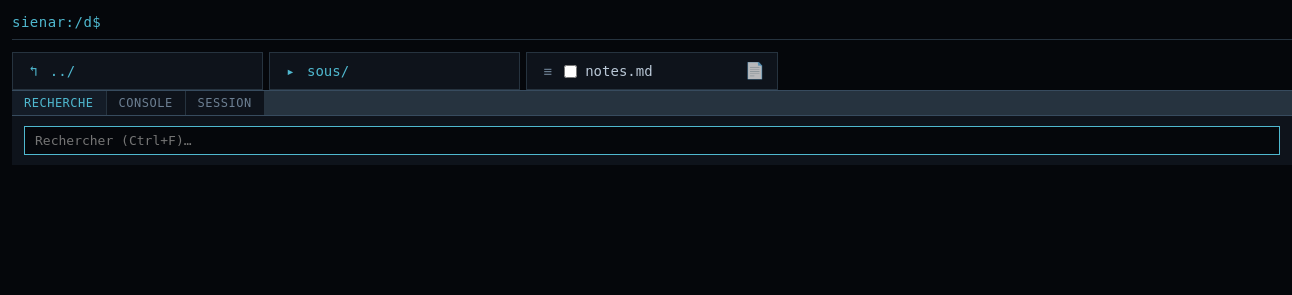
Test: FileExplorer.vue - Point 7: Recherche (dock) › affiche les résultats récursifs (avec chemin) et le compteur dans le dock
Type "rapport" into the field with class "search-input" at (652, 140), box [24,126,1280,155]
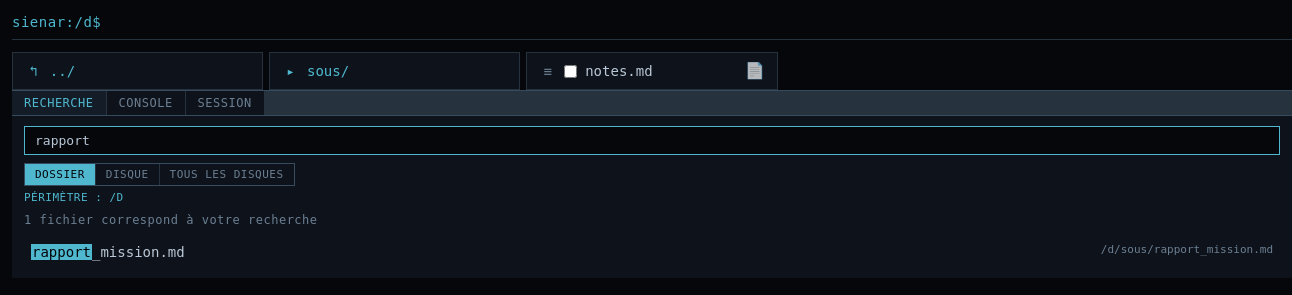
Now the element with class "bottom-dock" shows "/d/sous/rapport_mission.md", box [1101,242,1273,256]
